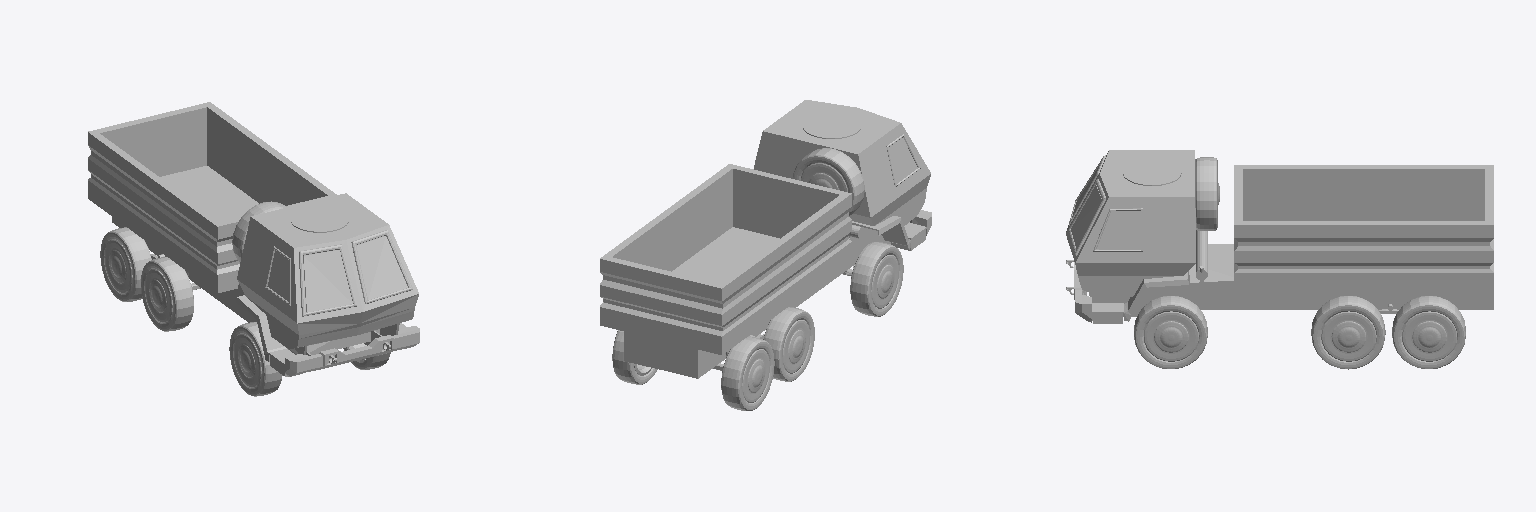
3 views of the same model, side by side, from view 1: azimuth 30°, elevation 25°; view 2: azimuth 150°, elevation 25°; view 3: azimuth 270°, elevation 25° (orthographic).
Parts seen in each view (by area): view 1: pCylinder14, Radial_Tire1:TireMesh1; view 2: pCylinder14, Radial_Tire1:TireMesh1; view 3: pCylinder14, Radial_Tire1:TireMesh1.
Part boxes in pixels (x1,y1,x2,y2): pCylinder14: (88,102,419,387); Radial_Tire1:TireMesh1: (100,201,390,396); pCylinder14: (600,100,931,402); Radial_Tire1:TireMesh1: (612,148,903,410); pCylinder14: (1066,150,1493,361); Radial_Tire1:TireMesh1: (1134,157,1465,369).
Size of the model in its own units: 5.18 by 6.3 by 14.62.